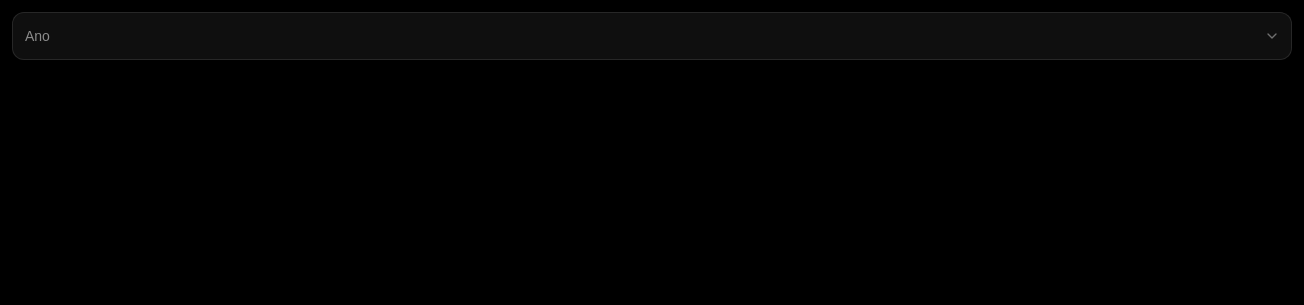
Scenario: YearCombobox › não aceita ano impossível nem letras
Later steps or results of the test are not shown.
Type "1800" into the field with placeholder "Ano". click: (652, 36)
box: x1=12 y1=12 x2=1292 y2=60
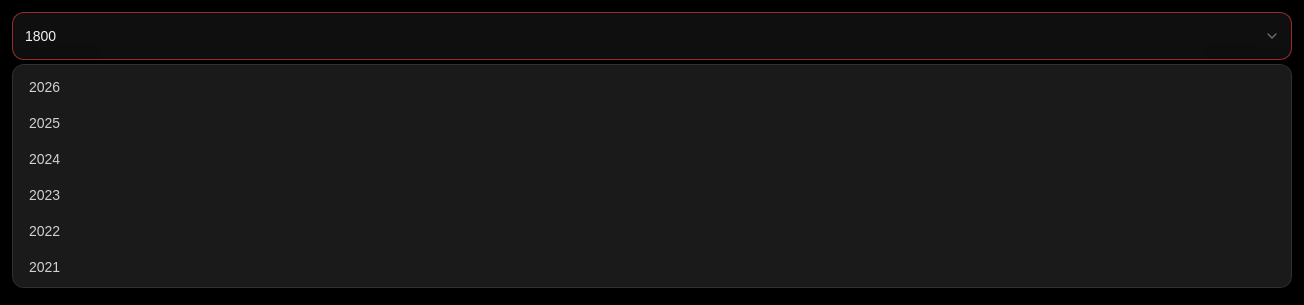
Replace the text in the field with placeholder "Ano" with "ab19x". click: (652, 36)
box: x1=12 y1=12 x2=1292 y2=60
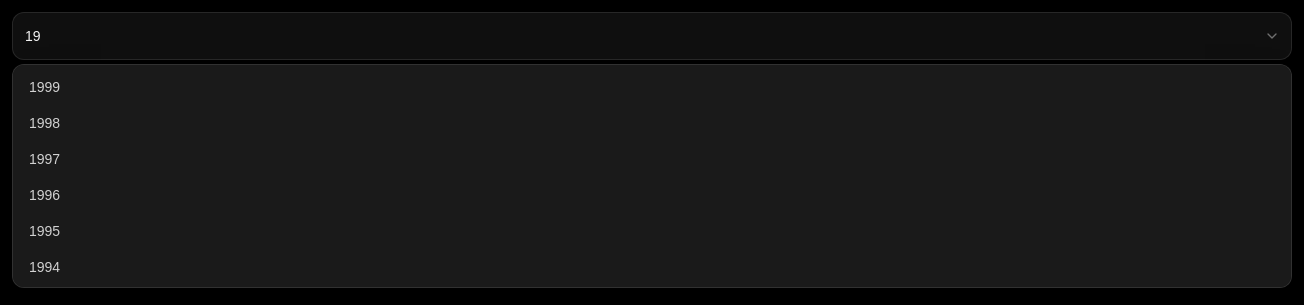
expect the field with placeholder "Ano" holds "19": met, box x1=12 y1=12 x2=1292 y2=60
